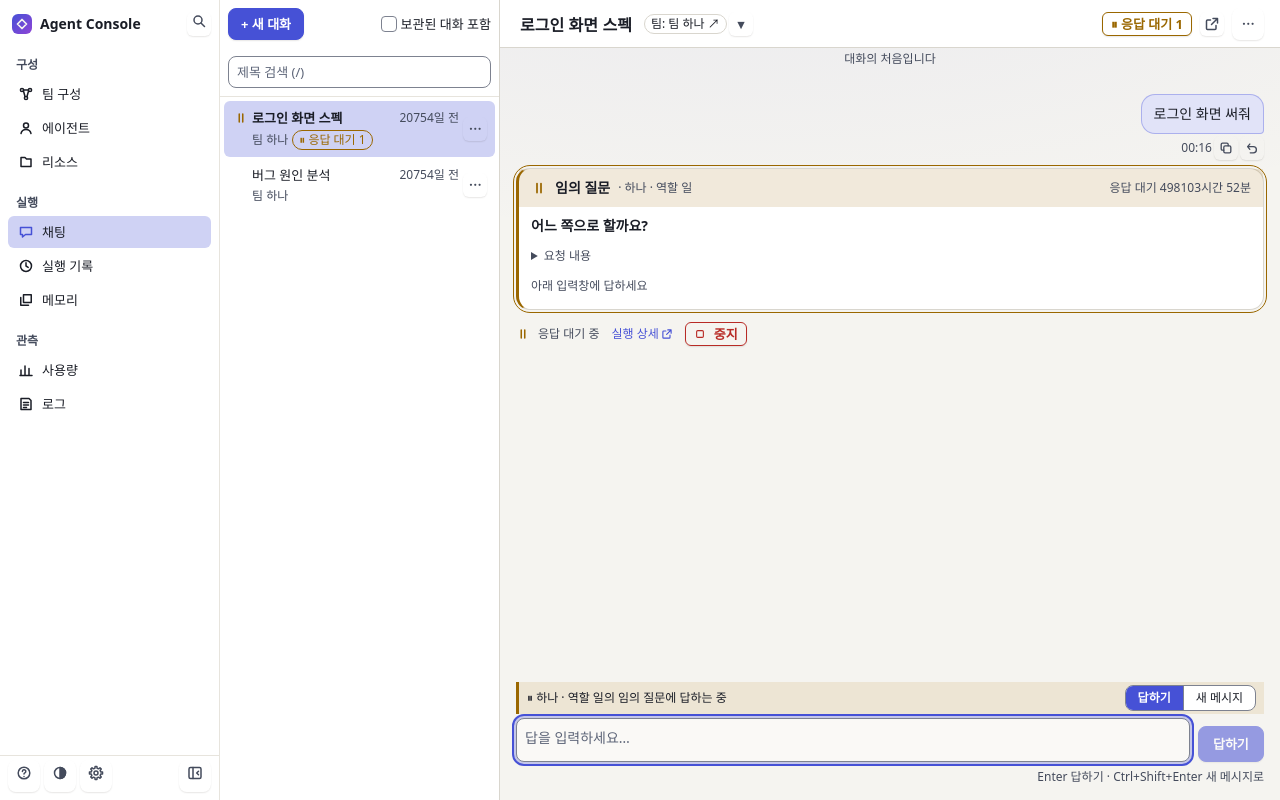
팀 구성 전환 › 실행 중이면 전환 메뉴가 비활성이다
This screenshot has width=1280, height=800.
Expected: the element "응답 대기" is shown, x1=516 y1=168 x2=1264 y2=310
Click the button named "팀 구성 바꾸기…": (741, 24) x1=729 y1=12 x2=753 y2=36
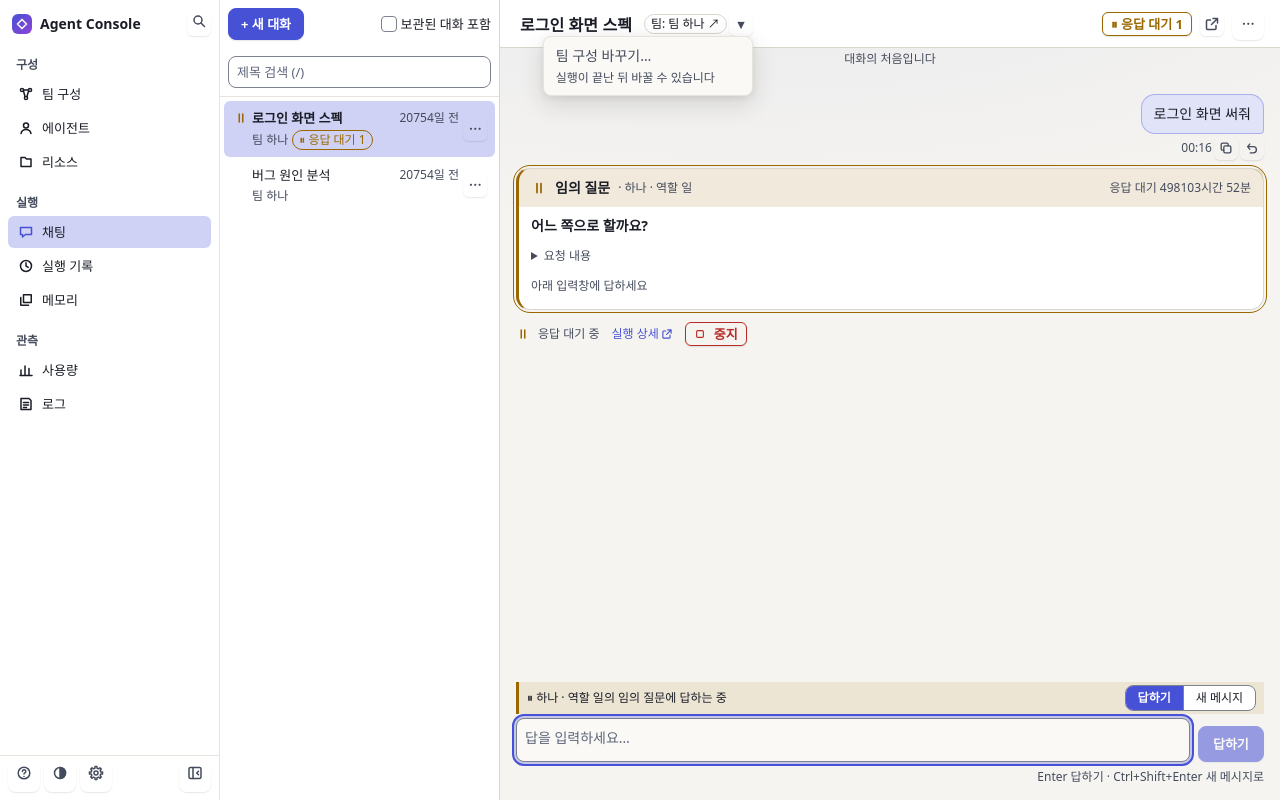
Now the menu item "팀 구성 바꾸기… 실행이 끝난 뒤 바꿀 수 있습니다" is disabled, box x1=548 y1=40 x2=748 y2=90
Now the menu item "팀 구성 바꾸기… 실행이 끝난 뒤 바꿀 수 있습니다" is shown, box x1=548 y1=40 x2=748 y2=90
